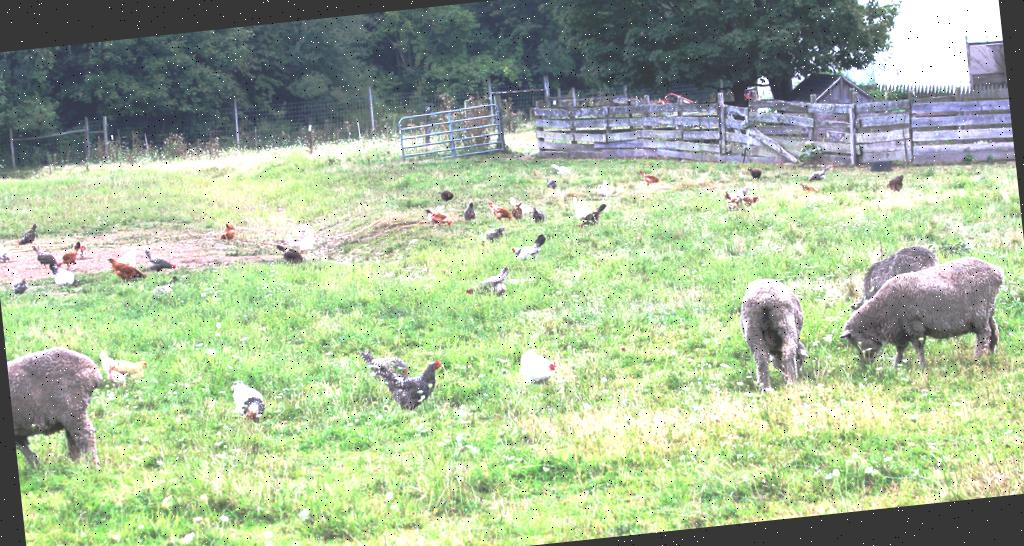Sheep: (833, 256, 1011, 375), (6, 350, 110, 474), (734, 273, 809, 398), (845, 245, 940, 310)
